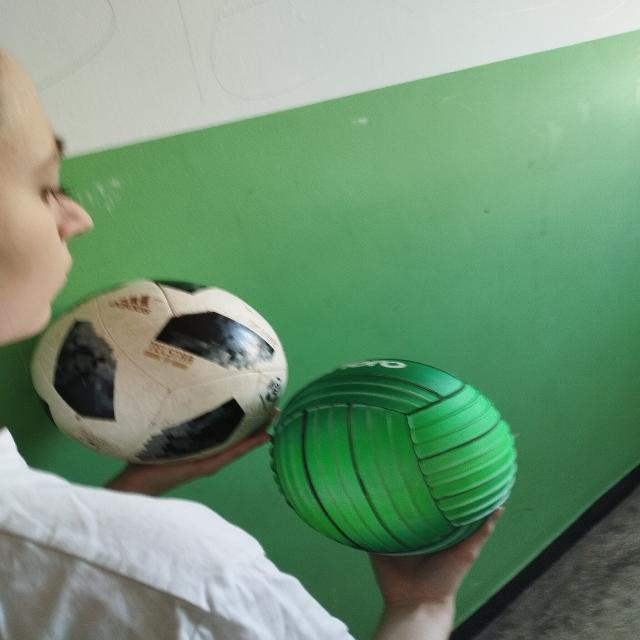nozna: (29, 281, 288, 467)
zielona: (271, 358, 518, 555)
